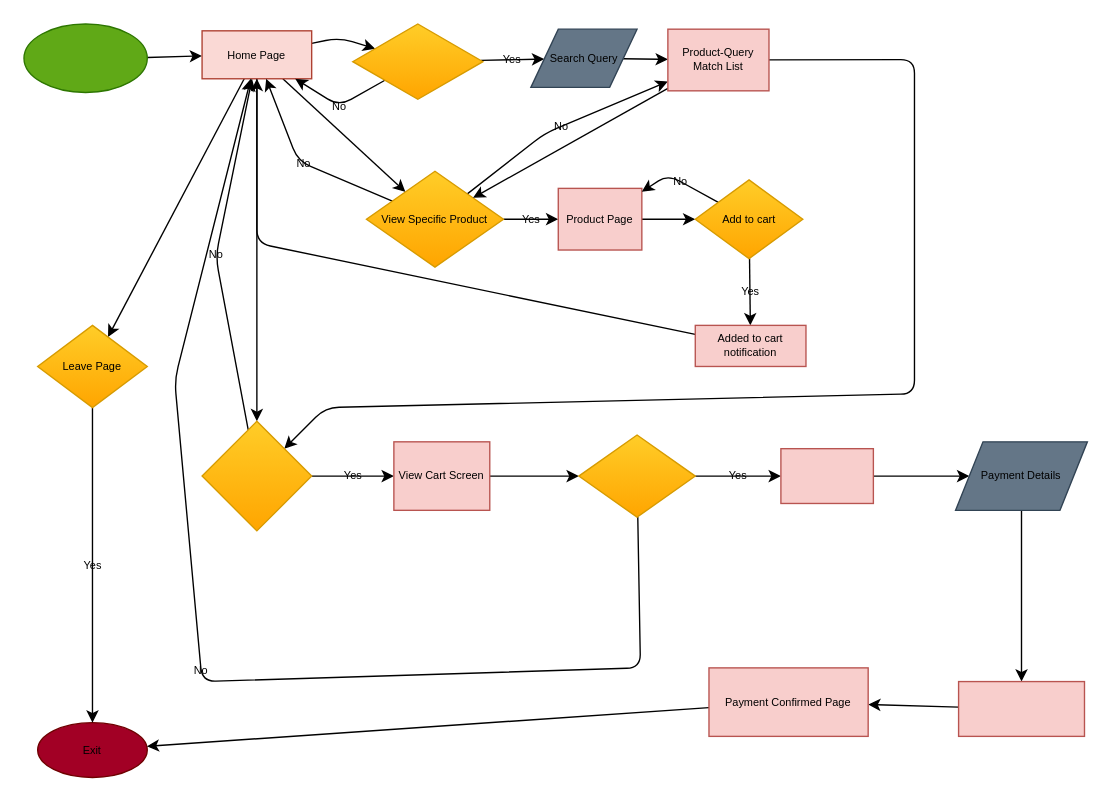
Image size: 1112x801. Some labels were removed from this diagram. The box of each missing label's shape, as (x1, y1, x2, y2) in pixels:
Checkout: (201, 420, 312, 531)
Pay: (577, 434, 695, 517)
Pay Screen: (780, 447, 873, 503)
Search for product: (351, 23, 483, 99)
Send Payment Confirmation Email: (957, 680, 1084, 736)
Start (User enters website): (23, 23, 147, 92)
